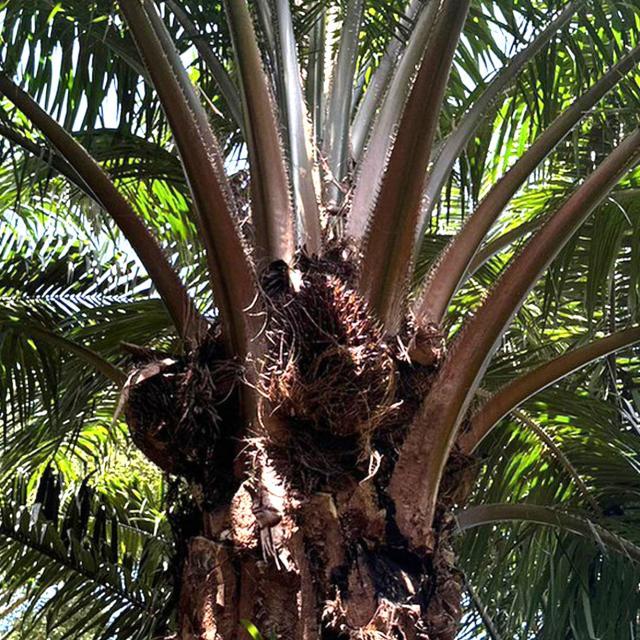ripe: (292, 260, 386, 358)
